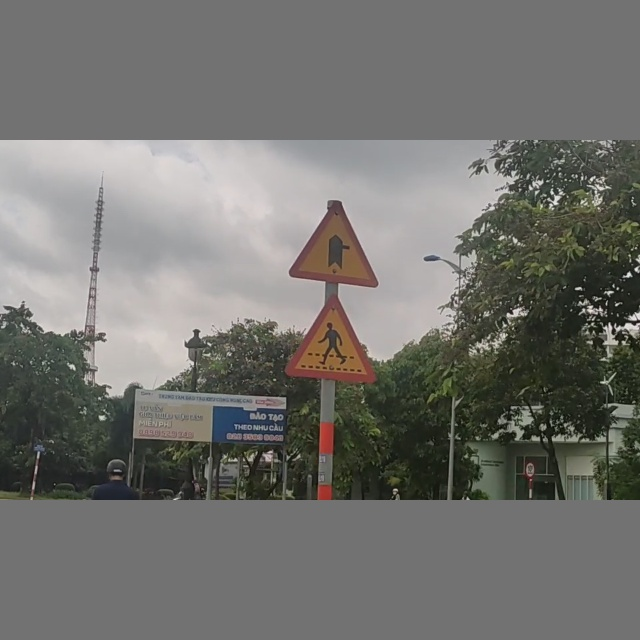W.207: (288, 201, 379, 287)
W.224: (285, 295, 380, 384)
